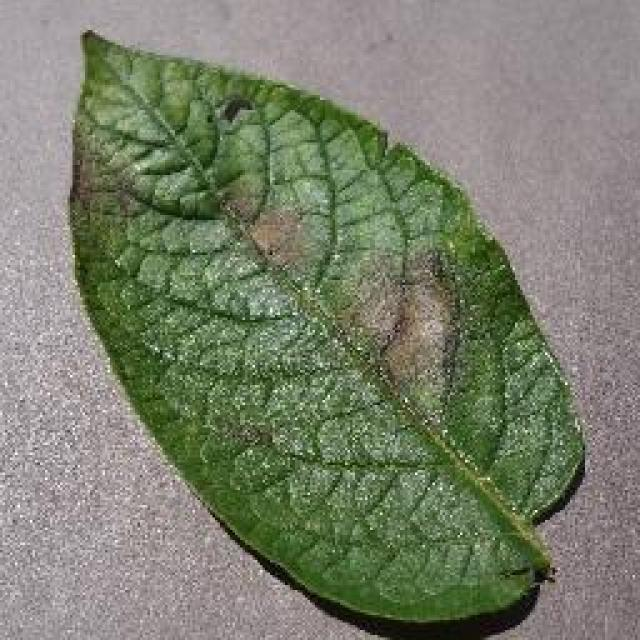Potato: (65, 25, 585, 635)
